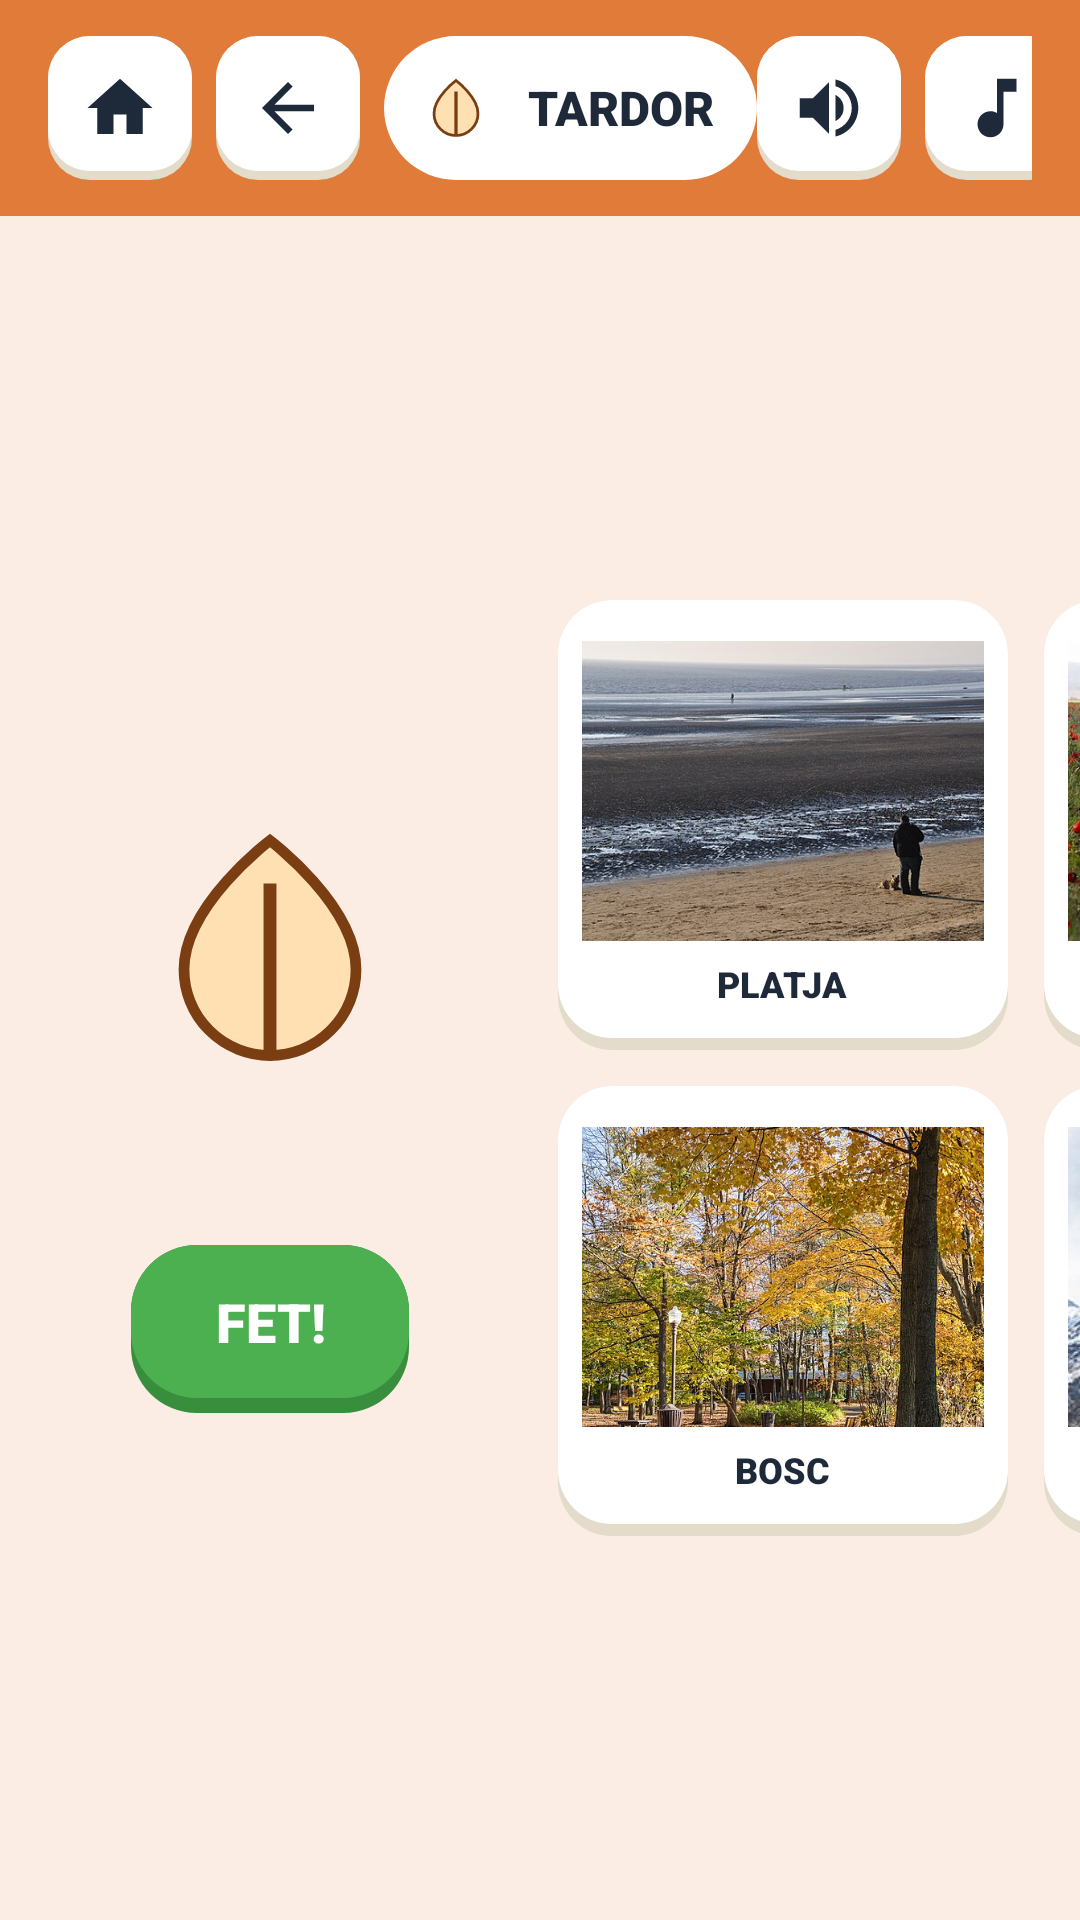

Named icons in this screenshot (1080 × 1920) and their centers, (x=x, y=y):
Enrere: (x=288, y=108)
Escoltar: (x=829, y=108)
Inici: (x=120, y=108)
Música: (x=978, y=108)
otono: (x=456, y=108), (x=270, y=947)
